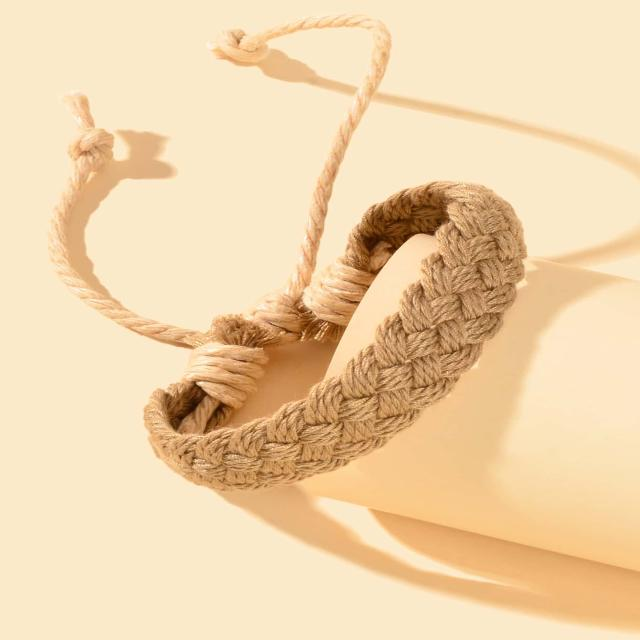bracelet: (0, 0, 590, 513)
